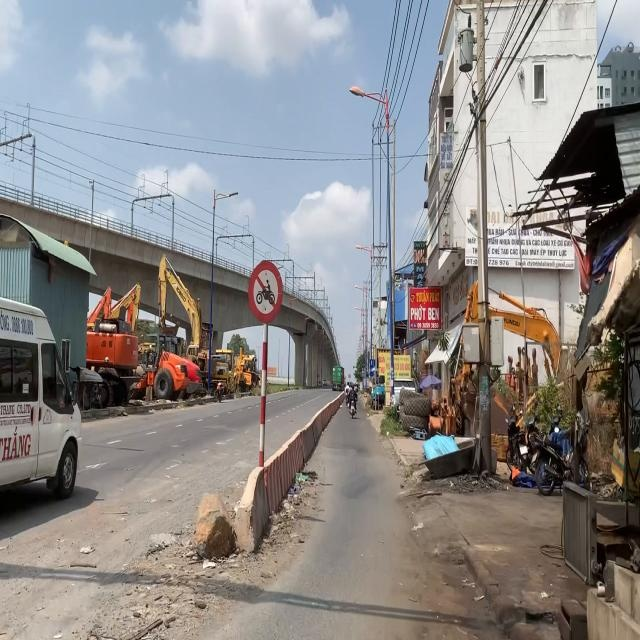bien_cam: (248, 260, 283, 322)
